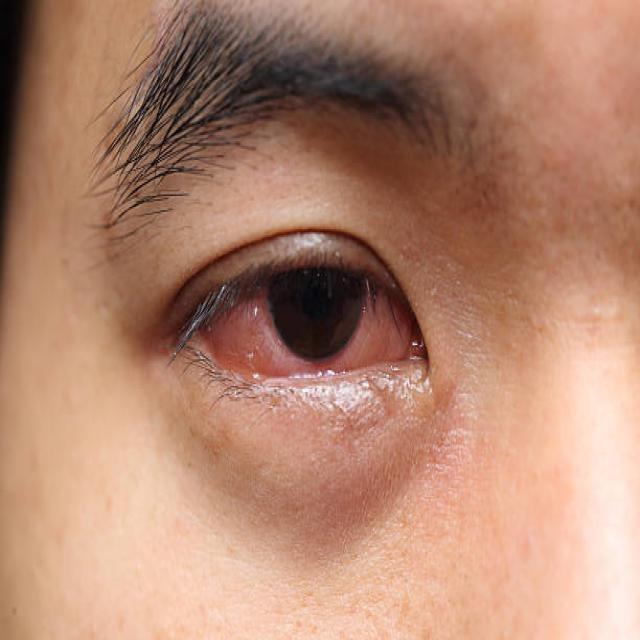Conjunctivitis: (202, 283, 408, 374)
